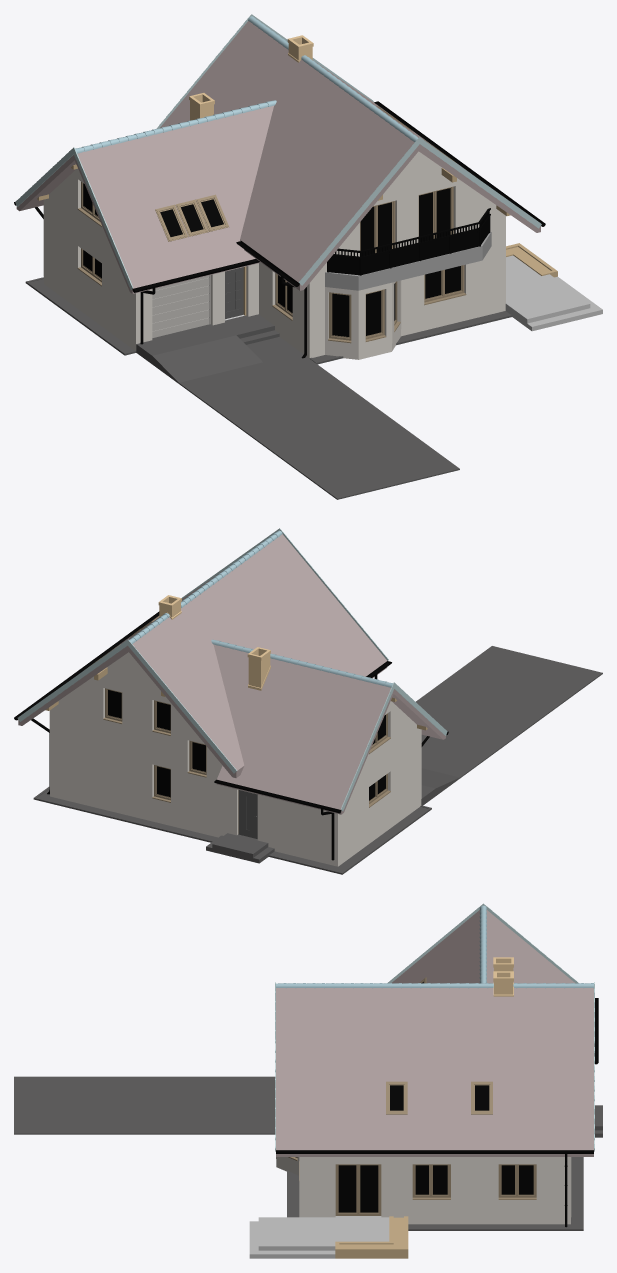
File: TheMainHouse.fbx
3 renders of one model, top to bottom at view 1: azimuth 30°, elevation 25°; view 2: azimuth 150°, elevation 25°; view 3: azimuth 270°, elevation 25°, orthographic. The views are drawn at different scales.
Visible parts, largest first — view 1: roof_2, ground_around_house_2, wall_exterior_2, roof_001_2, window_glass_2, terrace_2, cover_sides_001_2, window_011_2, door_garage_2, BalkonyWalls_2, balcony, cover_roof_001_2 (+7 smaller); view 2: wall_exterior_2, roof_2, roof_001_2, ground_around_house_2, cover_sides_001_2, cover_roof_001_2, window_glass_2, gutter_001_2, window_011_2, chimney_002_2, door_wing_013_2; view 3: roof_2, ground_around_house_2, wall_exterior_2, roof_001_2, terrace_2, window_glass_2, window_011_2, cover_roof_001_2, flower_pot_2, gutter_001_2, cover_sides_001_2, window_roof_2 (+2 smaller).
Boxes of the visible parts, <box> form: roof_2: <box>160,21,540,290</box>; ground_around_house_2: <box>25,277,512,499</box>; wall_exterior_2: <box>43,151,505,359</box>; roof_001_2: <box>16,105,273,293</box>; window_glass_2: <box>83,183,460,336</box>; terrace_2: <box>505,255,602,331</box>; cover_sides_001_2: <box>15,14,541,289</box>; window_011_2: <box>77,181,466,343</box>; door_garage_2: <box>152,275,210,337</box>; BalkonyWalls_2: <box>329,219,488,275</box>; balcony: <box>325,232,491,290</box>; cover_roof_001_2: <box>75,16,418,153</box>; wall_exterior_2: <box>49,652,421,866</box>; roof_2: <box>18,534,387,777</box>; roof_001_2: <box>213,644,445,814</box>; ground_around_house_2: <box>33,646,602,874</box>; cover_sides_001_2: <box>17,528,447,811</box>; cover_roof_001_2: <box>129,530,392,687</box>; window_glass_2: <box>108,690,385,800</box>; gutter_001_2: <box>14,611,448,860</box>; window_011_2: <box>103,688,390,807</box>; chimney_002_2: <box>158,595,270,690</box>; door_wing_013_2: <box>238,790,257,838</box>; roof_2: <box>276,988,593,1156</box>; ground_around_house_2: <box>14,1076,602,1230</box>; wall_exterior_2: <box>276,1157,571,1224</box>; roof_001_2: <box>392,910,575,983</box>; terrace_2: <box>249,1216,389,1258</box>; window_glass_2: <box>338,1165,533,1212</box>; window_011_2: <box>288,1157,536,1215</box>; cover_roof_001_2: <box>276,905,593,988</box>; flower_pot_2: <box>335,1216,408,1258</box>; gutter_001_2: <box>276,998,598,1227</box>; cover_sides_001_2: <box>275,903,594,1151</box>; window_roof_2: <box>386,977,492,1114</box>.
Size of what is drawn, in the model's own units: 18057 by 23871 by 9221.
